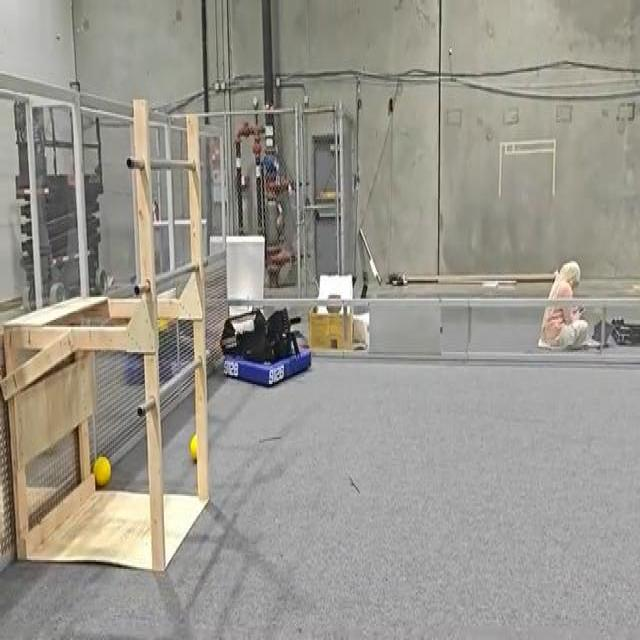Fuel: (93, 457, 111, 487), (189, 434, 198, 461), (189, 434, 196, 458), (90, 469, 96, 486), (91, 458, 98, 472)
